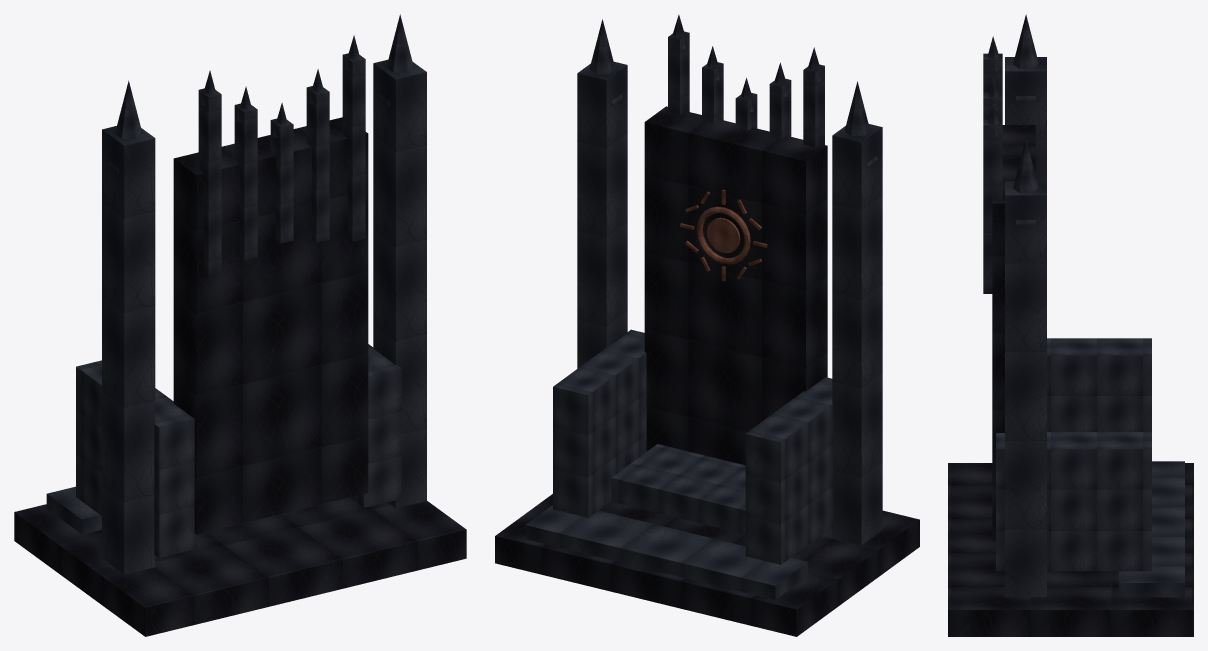
Rendered from blackstone-throne.glb.
The picture shows the model from 3 angles, left to right: view 1: azimuth 30°, elevation 25°; view 2: azimuth 150°, elevation 25°; view 3: azimuth 270°, elevation 25°; orthographic projection. The views are drawn at different scales.
Parts seen in each view (by area): view 1: Throne_Back, Throne_Plinth, Throne_Pier_L, Throne_Pier_R, Throne_Arm_L, Throne_Arm_R, Throne_Spine_1, Throne_Spine_5, Throne_Spine_2, Throne_Spine_4, Throne_Spine_3, Throne_Step (+2 smaller); view 2: Throne_Back, Throne_Pier_L, Throne_Plinth, Throne_Pier_R, Throne_Arm_L, Throne_Arm_R, Throne_Step, Throne_Seat, Throne_Spine_1, Throne_Spine_5, Throne_Spine_2, Throne_Spine_4 (+5 smaller); view 3: Throne_Plinth, Throne_Pier_R, Throne_Arm_R, Throne_Arm_L, Throne_Step, Throne_Back, Throne_Pier_L, Throne_Spine_5, Throne_Crown_L, Throne_Crown_R, Throne_Spine_1, Throne_Spine_2.
Part boxes in pixels (box(x1,y1,x2,y2)): Throne_Back: box(173, 117, 368, 534); Throne_Plinth: box(14, 497, 466, 636); Throne_Pier_L: box(102, 126, 155, 574); Throne_Pier_R: box(373, 59, 426, 508); Throne_Arm_L: box(76, 360, 196, 557); Throne_Arm_R: box(350, 344, 401, 507); Throne_Spine_1: box(198, 88, 221, 276); Throne_Spine_5: box(342, 53, 365, 241); Throne_Spine_2: box(234, 103, 257, 259); Throne_Spine_4: box(306, 86, 329, 242); Throne_Spine_3: box(270, 118, 293, 243); Throne_Step: box(46, 486, 101, 534); Throne_Back: box(644, 106, 827, 465); Throne_Pier_L: box(832, 124, 882, 545); Throne_Plinth: box(495, 494, 919, 636); Throne_Pier_R: box(577, 61, 627, 368); Throne_Arm_L: box(745, 377, 833, 564); Throne_Arm_R: box(553, 329, 646, 517); Throne_Step: box(525, 505, 808, 599); Throne_Seat: box(611, 444, 745, 534); Throne_Spine_1: box(803, 64, 824, 147); Throne_Spine_5: box(668, 31, 689, 114); Throne_Spine_2: box(769, 78, 791, 139); Throne_Spine_4: box(702, 62, 723, 122); Throne_Plinth: box(948, 463, 1193, 636); Throne_Pier_R: box(1005, 181, 1046, 597); Throne_Arm_R: box(996, 432, 1151, 571); Throne_Arm_L: box(1047, 338, 1151, 431); Throne_Step: box(1119, 461, 1184, 597); Throne_Back: box(992, 125, 1035, 540); Throne_Pier_L: box(1005, 57, 1046, 181); Throne_Spine_5: box(983, 119, 1002, 293); Throne_Crown_L: box(1013, 14, 1038, 100); Throne_Crown_R: box(1013, 139, 1038, 224); Throne_Spine_1: box(983, 53, 1002, 92); Throne_Spine_2: box(983, 92, 1002, 119).
Size of the model in its own units: 5.8 by 9.11 by 4.1.
3 materials, 3 textured.
